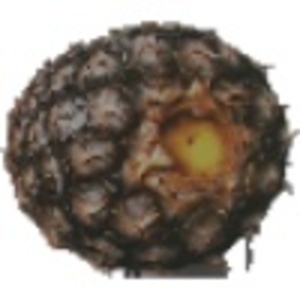abacaxi: (7, 15, 294, 268)
